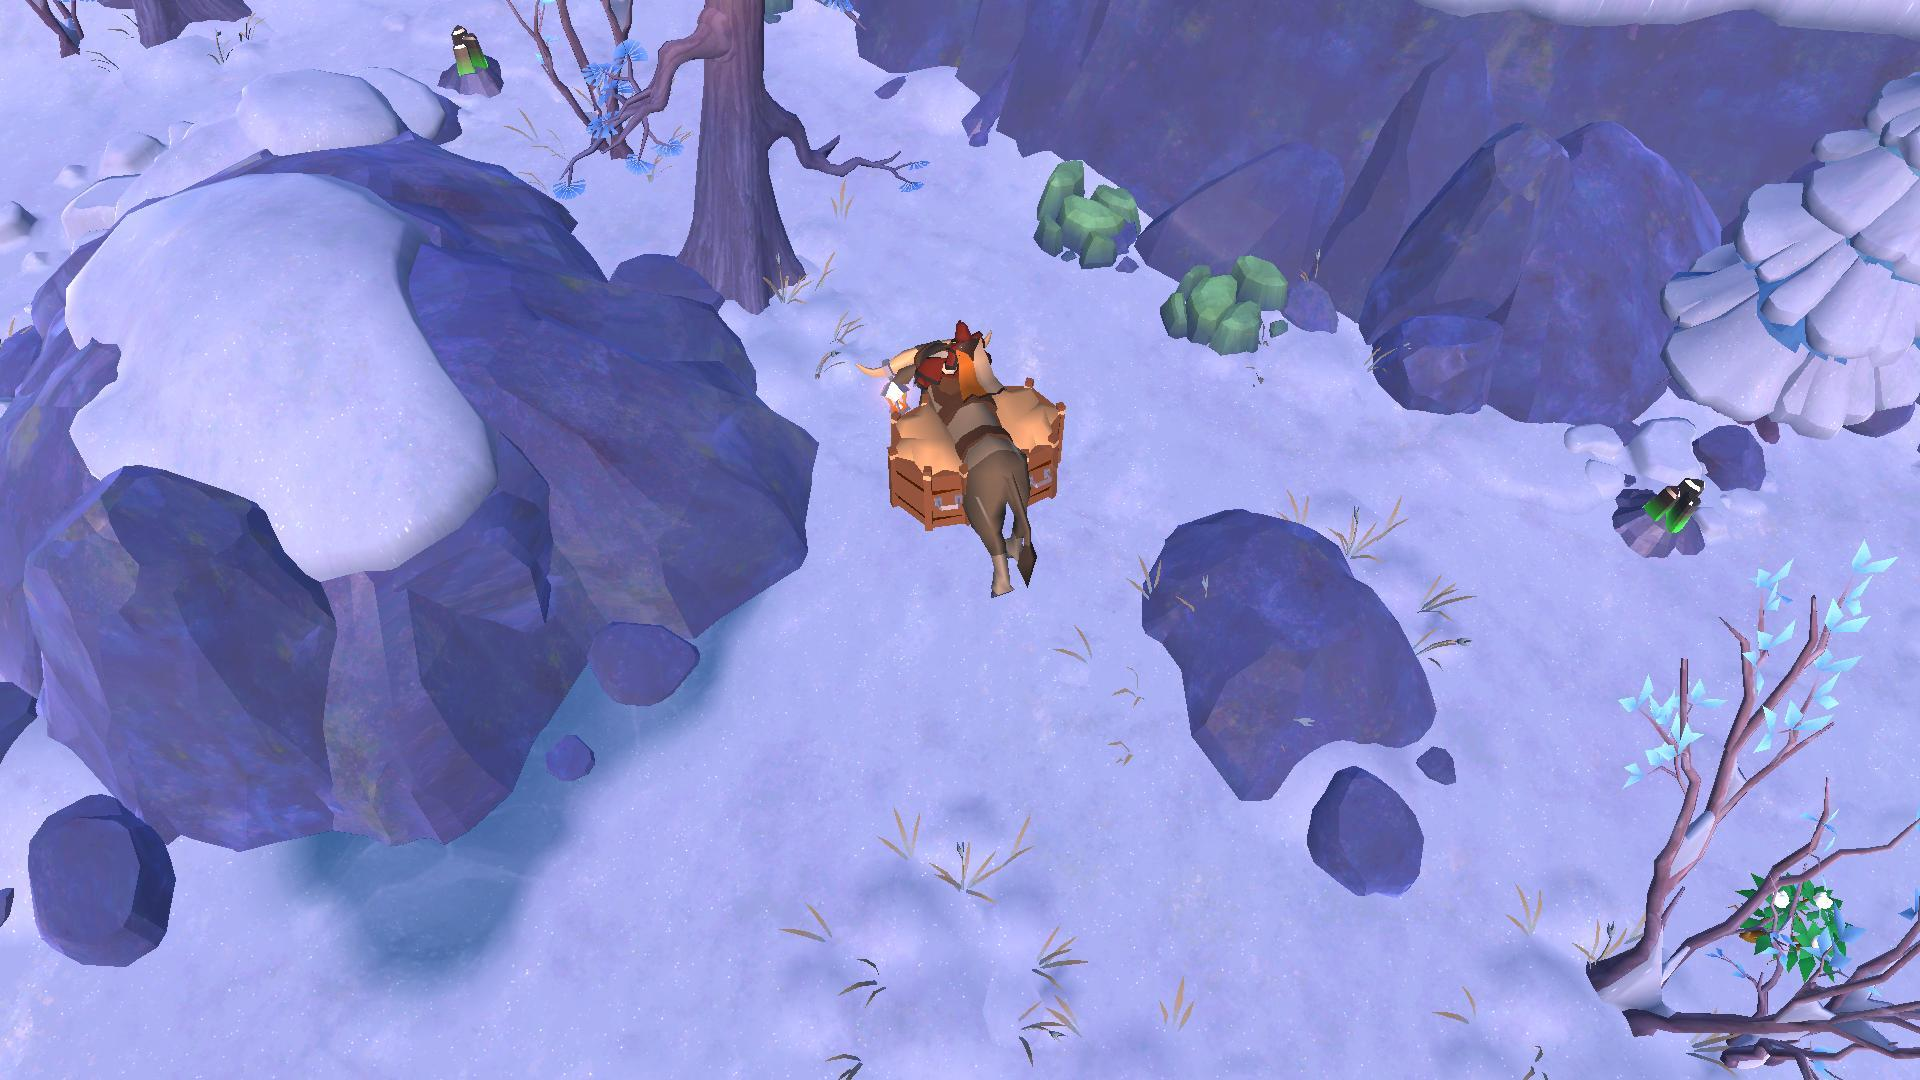fiber_t3: (1734, 872, 1849, 984)
ore_t3: (1643, 467, 1705, 533), (442, 21, 493, 83)
rock_t3: (1021, 153, 1146, 274), (1155, 258, 1298, 351)
